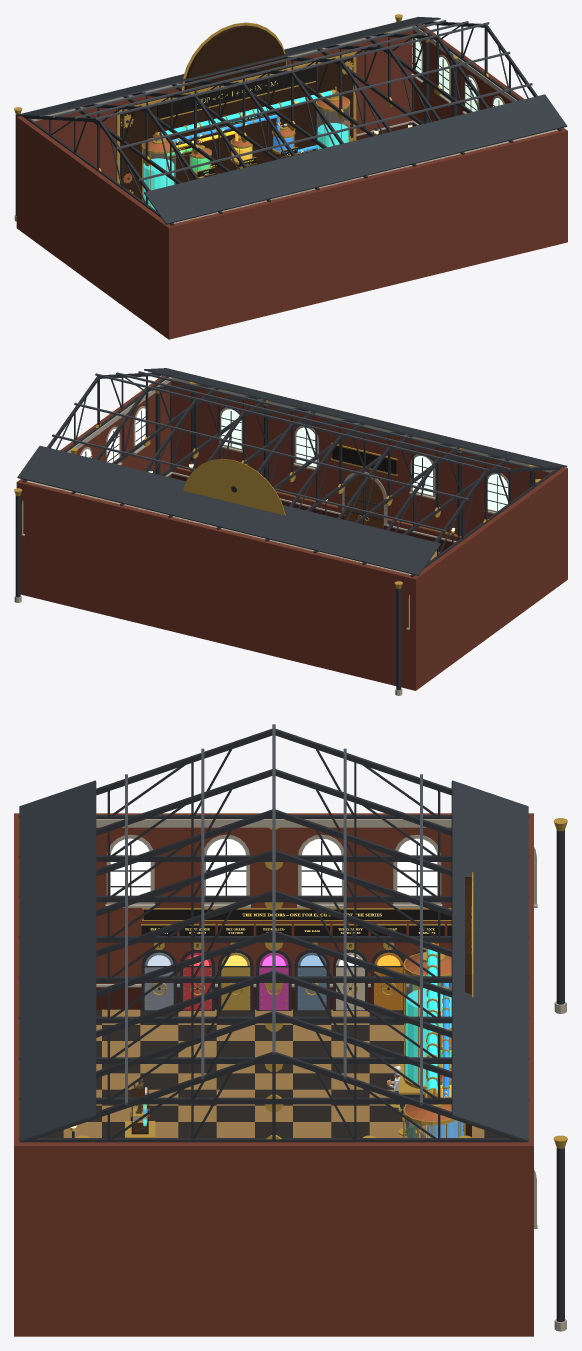
Rendered from macro-hydraulic-hall.glb.
The picture shows the model from 3 angles, top to bottom: view 1: azimuth 30°, elevation 25°; view 2: azimuth 150°, elevation 25°; view 3: azimuth 270°, elevation 25°; orthographic projection. The views are drawn at different scales.
Parts seen in each view (by area): view 1: ROOF_HH_brick, ROOF_HH_slate, MERGED_HH_iron, MERGED_HH_oak_dark, MERGED_HH_iron_light, MERGED_HH_brass, MERGED_HH_plaque, MERGED_HH_water_money, ROOF_HH_stone, ROOF_HH_glass, MERGED_HH_copper, MERGED_HH_window (+2 smaller); view 2: ROOF_HH_brick, ROOF_HH_slate, MERGED_HH_iron, MERGED_HH_iron_light, MERGED_HH_brass, MERGED_HH_window, ROOF_HH_stone, MERGED_HH_stone, MERGED_HH_oak, MERGED_HH_plaque, ROOF_HH_brick_dark; view 3: ROOF_HH_brick, MERGED_HH_iron, ROOF_HH_slate, MERGED_HH_floor_a, MERGED_HH_floor_b, MERGED_HH_brass, MERGED_HH_iron_light, MERGED_HH_window, MERGED_HH_plaque, MERGED_HH_stone, ROOF_HH_stone, MERGED_HH_water_money (+12 smaller).
Boxes of the visible parts, box(x1,y1,x2,y2) form: ROOF_HH_brick: box(16, 24, 567, 339); ROOF_HH_slate: box(17, 16, 567, 224); MERGED_HH_iron: box(15, 21, 561, 225); MERGED_HH_oak_dark: box(116, 25, 353, 200); MERGED_HH_iron_light: box(52, 20, 532, 180); MERGED_HH_brass: box(14, 14, 536, 218); MERGED_HH_plaque: box(157, 67, 315, 176); MERGED_HH_water_money: box(143, 90, 348, 209); ROOF_HH_stone: box(31, 25, 557, 223); ROOF_HH_glass: box(143, 107, 348, 208); MERGED_HH_copper: box(123, 90, 377, 183); MERGED_HH_window: box(412, 38, 503, 111); ROOF_HH_brick: box(16, 375, 567, 690); ROOF_HH_slate: box(17, 368, 567, 575); MERGED_HH_iron: box(15, 372, 561, 690); MERGED_HH_iron_light: box(52, 371, 532, 532); MERGED_HH_brass: box(14, 382, 540, 588); MERGED_HH_window: box(81, 408, 507, 511); ROOF_HH_stone: box(27, 377, 553, 574); MERGED_HH_stone: box(14, 406, 508, 695); MERGED_HH_oak: box(344, 475, 383, 529); MERGED_HH_plaque: box(332, 446, 396, 474); ROOF_HH_brick_dark: box(168, 474, 453, 552); ROOF_HH_brick: box(14, 813, 533, 1336); MERGED_HH_iron: box(18, 729, 564, 1321); ROOF_HH_slate: box(19, 780, 528, 1142); MERGED_HH_floor_a: box(40, 1009, 507, 1137); MERGED_HH_floor_b: box(63, 1009, 484, 1137); MERGED_HH_brass: box(70, 818, 567, 1148); MERGED_HH_iron_light: box(125, 724, 422, 1105); MERGED_HH_window: box(110, 838, 437, 895); MERGED_HH_plaque: box(130, 909, 451, 1137); MERGED_HH_stone: box(105, 834, 566, 1331); ROOF_HH_stone: box(96, 819, 451, 987); MERGED_HH_water_money: box(143, 949, 451, 1126).
Size of the model in its own units: 41.4 by 16.71 by 28.98.
